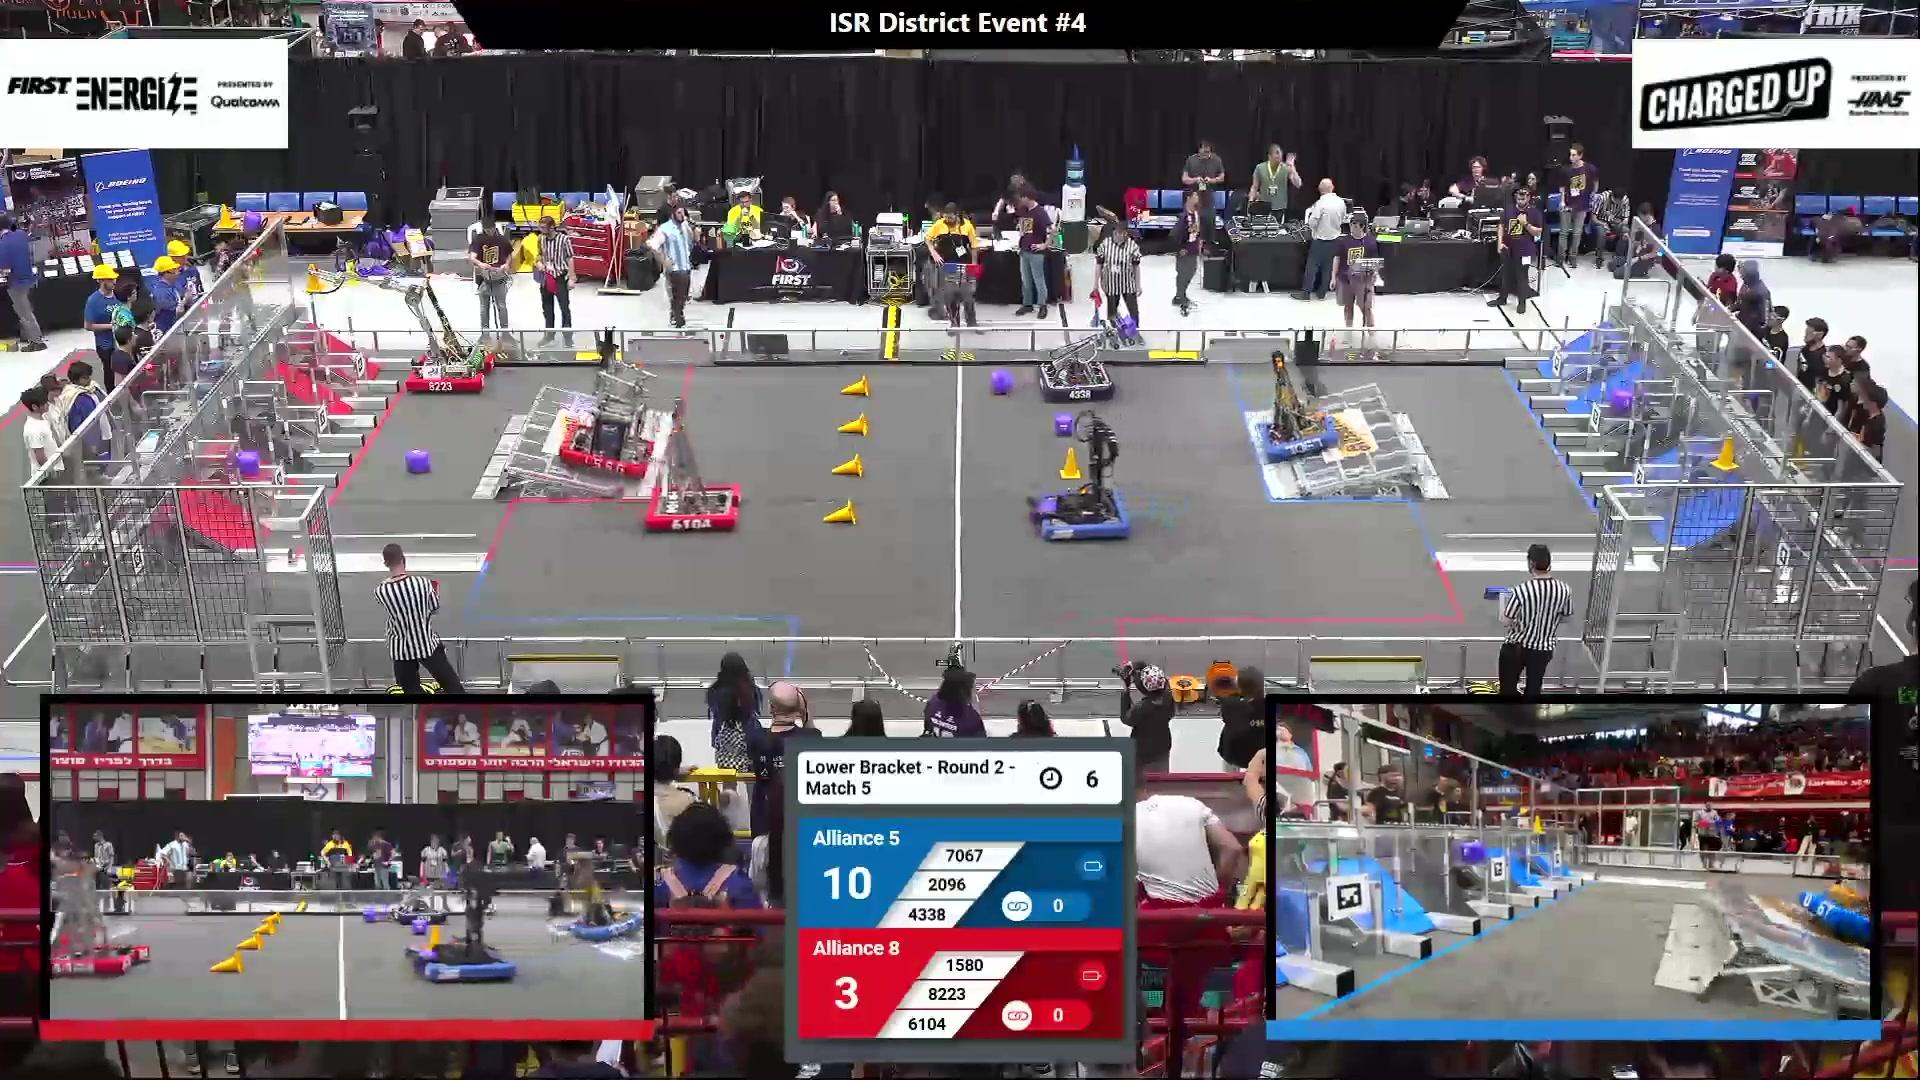robot: (306, 262, 488, 394), (1031, 413, 1133, 546), (645, 401, 741, 534), (406, 870, 512, 982), (555, 361, 655, 475), (54, 862, 153, 977), (1257, 347, 1340, 462), (1036, 314, 1137, 398), (566, 860, 642, 942), (1799, 878, 1873, 944), (392, 873, 446, 926)
